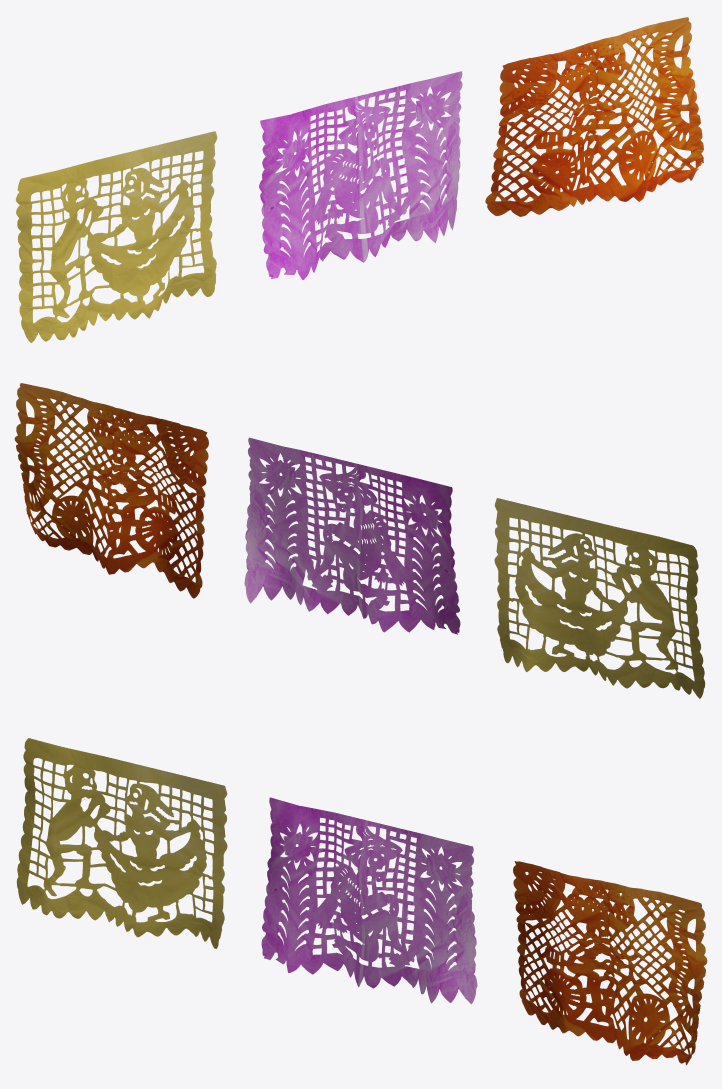
Rendered from papel_picado.glb.
3 renders of one model, top to bottom at view 1: azimuth 30°, elevation 25°; view 2: azimuth 150°, elevation 25°; view 3: azimuth 330°, elevation 25°, orthographic.
Visible parts, largest first — view 1: Plane.001, Plane.002, Plane; view 2: Plane.001, Plane.002, Plane; view 3: Plane.001, Plane, Plane.002.
Part boxes in pixels (<box>): Plane.001: <box>259,71,462,279</box>; Plane.002: <box>485,17,703,216</box>; Plane: <box>16,131,217,342</box>; Plane.001: <box>244,437,460,634</box>; Plane.002: <box>14,383,208,598</box>; Plane: <box>494,498,705,698</box>; Plane.001: <box>261,797,477,1004</box>; Plane: <box>16,738,227,948</box>; Plane.002: <box>513,861,707,1065</box>.
Size of the model in its own units: 8.65 by 2.05 by 0.6096.
3 materials, 3 textured.
